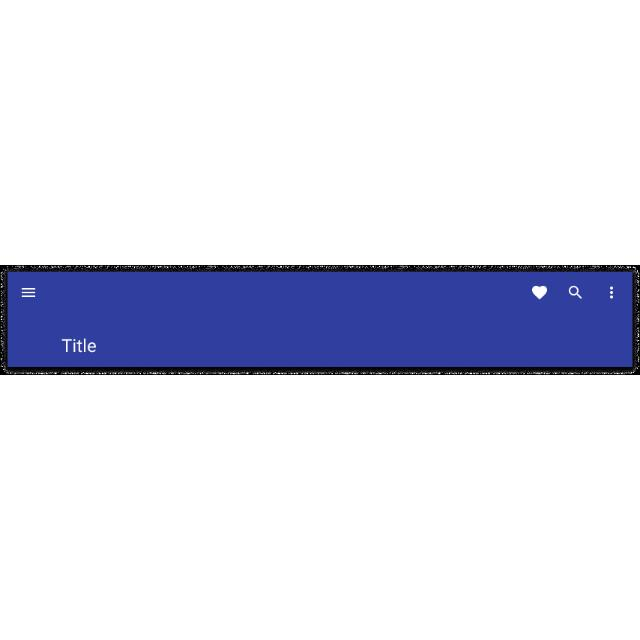QLabel: (61, 338, 98, 356)
VAppBar: (6, 270, 634, 370)
VIcon: (566, 286, 584, 300), (532, 286, 548, 300), (22, 288, 36, 298), (610, 286, 614, 300)
